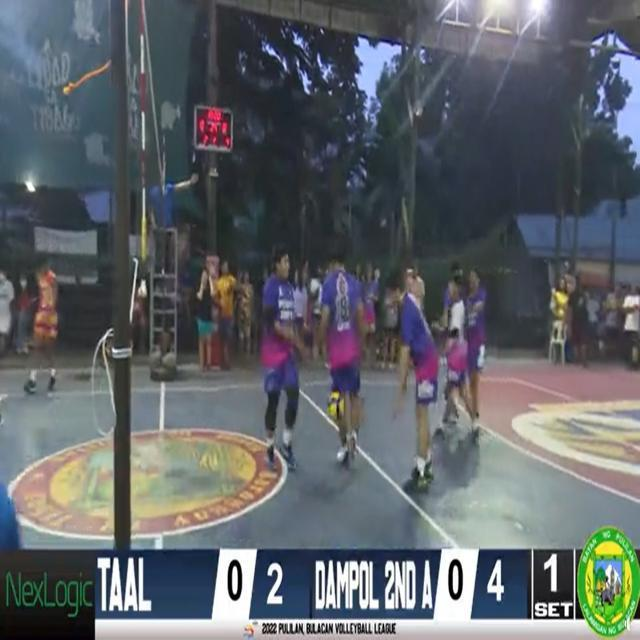volleyball: (328, 390, 348, 420)
